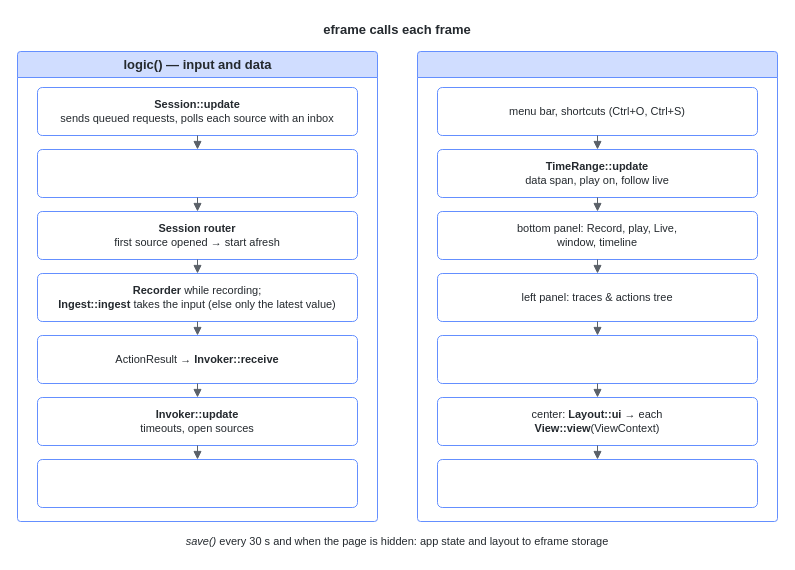
Image size: 795x570. Some labels were removed from this diagram. The shapes that lost their labels are listed below. From the top down, each one's box as (x1, y1, x2, y2) in pixels, then its label:
(36, 148, 358, 198): Inbox::frame parser reads each message of the frame, in one scan
(416, 50, 778, 522): ui() — panels and views
(436, 334, 758, 384): right panel: connections, properties of the selected view
(36, 458, 358, 508): Connections::observe , rate, reset if fresh; notices → toasts; files → App::open
(436, 458, 758, 508): Session::send_invocations (outbox → sources)
